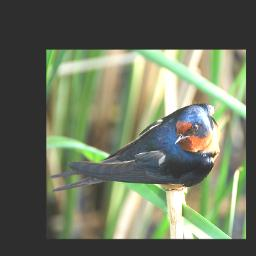Swallow: (49, 101, 222, 194)
